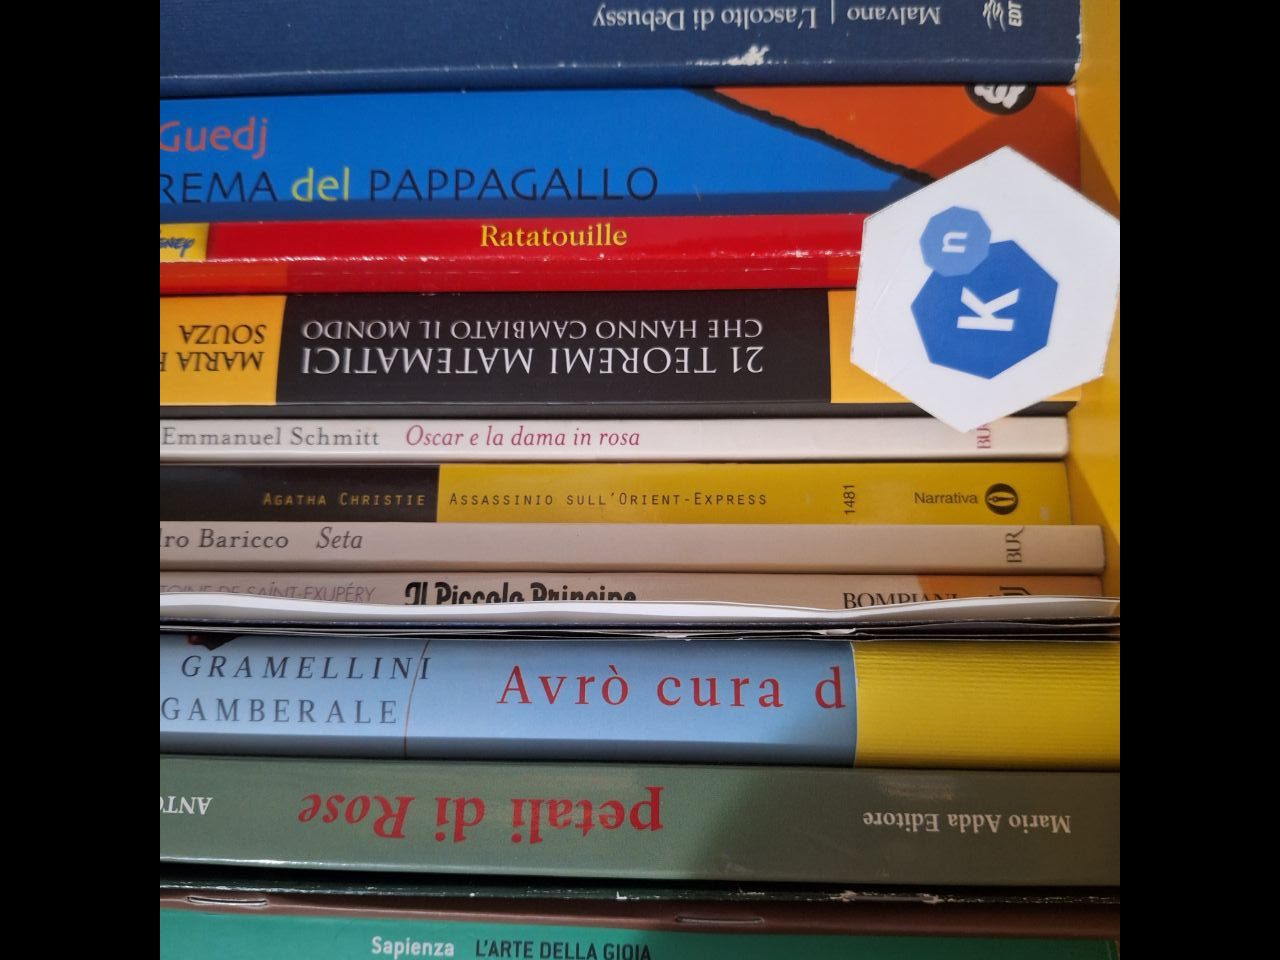knative: (907, 203, 1060, 378)
